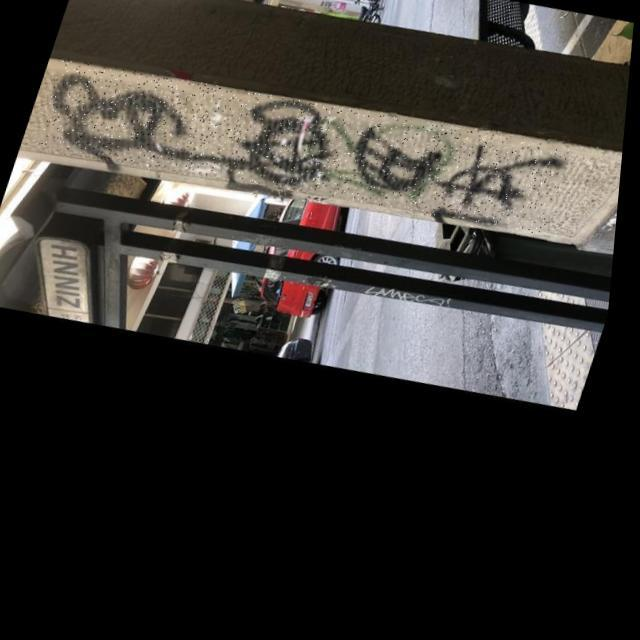-: (29, 28, 584, 274)
